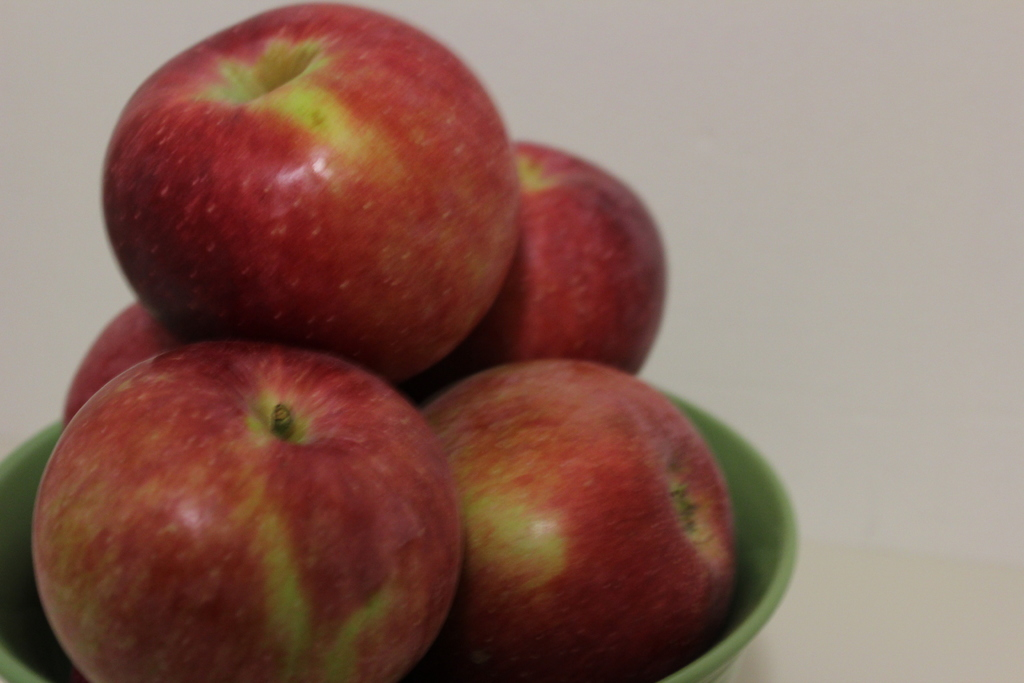Apple: (96, 3, 520, 392), (30, 339, 466, 682), (422, 356, 736, 682), (403, 141, 668, 409), (64, 297, 182, 431)
